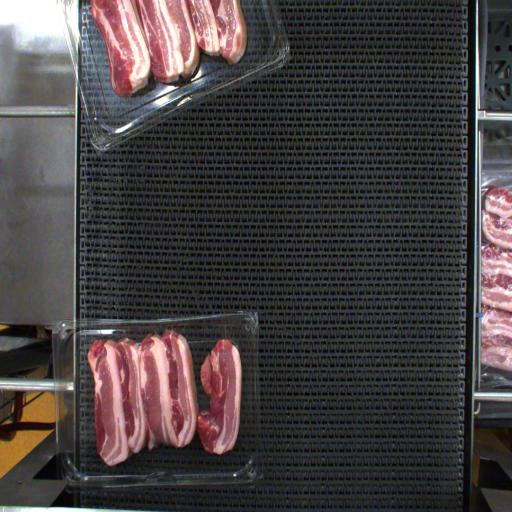loose-meat: (194, 327, 240, 457)
